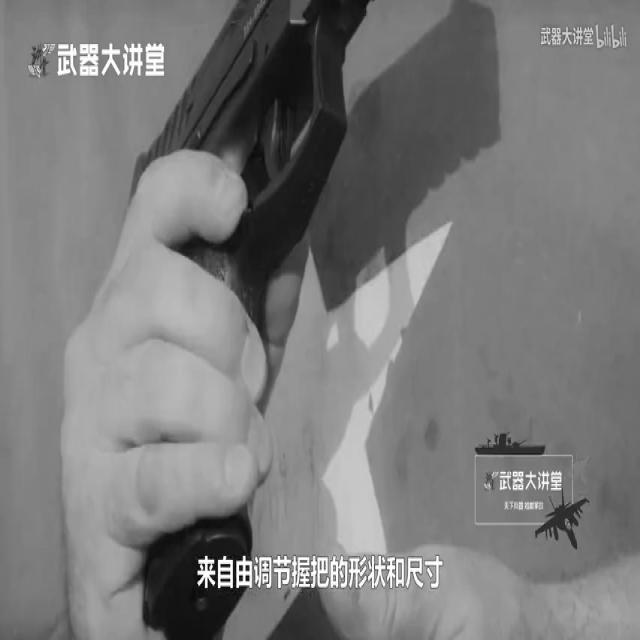Hand-Gun: (73, 0, 433, 640)
